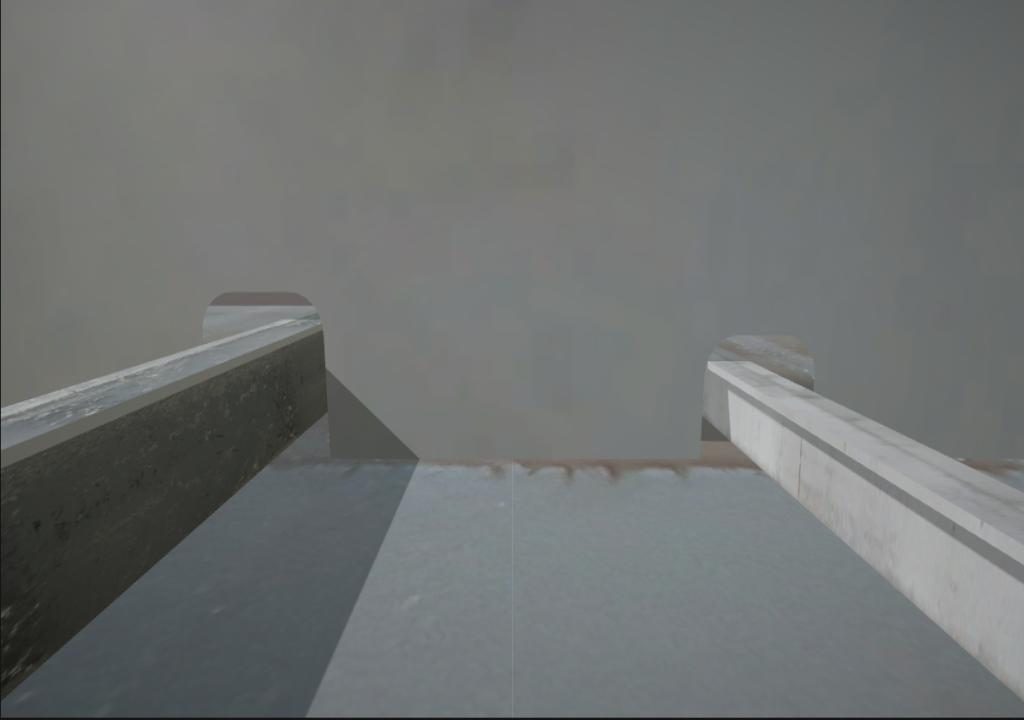fillet_yong_jeop_jang: (323, 444, 717, 469)
